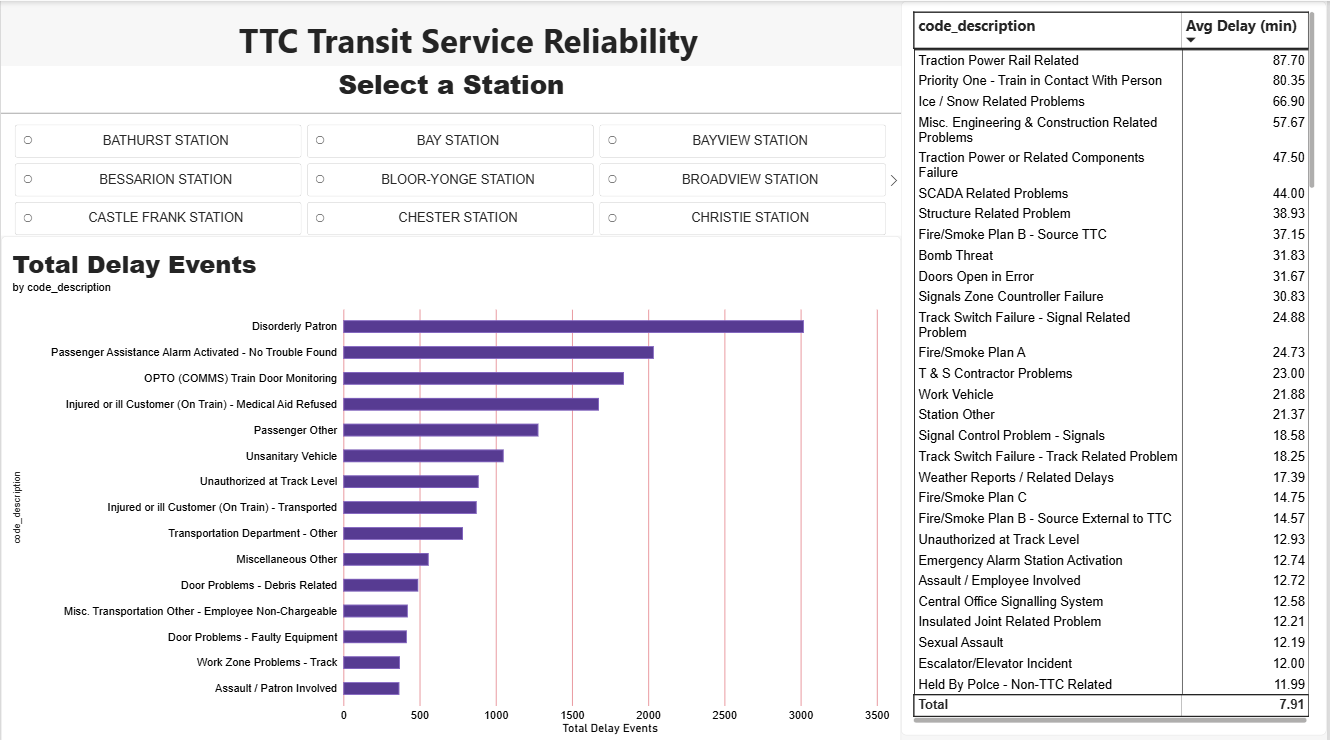

Layout of this report page (visuals, bound fields, positions):
{"tool":"powerbi","page":{"name":"Root Cause","canvas":[1920,1080],"ordinal":1},"visuals":[{"type":"clusteredBarChart","fields":{"Category":["dim_delay_code.code_description"],"Y":["fact_delay_events.Total Delay Events"]},"box":[0,340.7,1303.4,739.2],"z":0},{"type":"tableEx","fields":{"Values":["dim_delay_code.code_description","fact_delay_events.Avg Delay (min)"]},"box":[1303.4,0,616.3,1063.2],"z":1000},{"type":"advancedSlicerVisual","title":"Select a Station","fields":{"Values":["dim_station.station_name"]},"box":[0,95,1303.4,245.8],"z":2000},{"type":"textbox","box":[0,23.9,1353.5,95.4],"z":3000}]}

Visuals, with their boxes in screenshot pixels (x1, y1, x2, y2), scaled from the page's 1920x1080 canvas onto the 1330x740 screenshot:
clusteredBarChart - dim_delay_code.code_description x fact_delay_events.Total Delay Events: bbox=(0, 233, 903, 739)
tableEx - dim_delay_code.code_description x fact_delay_events.Avg Delay (min): bbox=(903, 0, 1329, 728)
"Select a Station" advancedSlicerVisual: bbox=(0, 65, 903, 234)
textbox: bbox=(0, 16, 938, 82)
